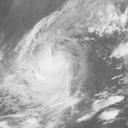cyclone: (19, 47, 74, 106)
